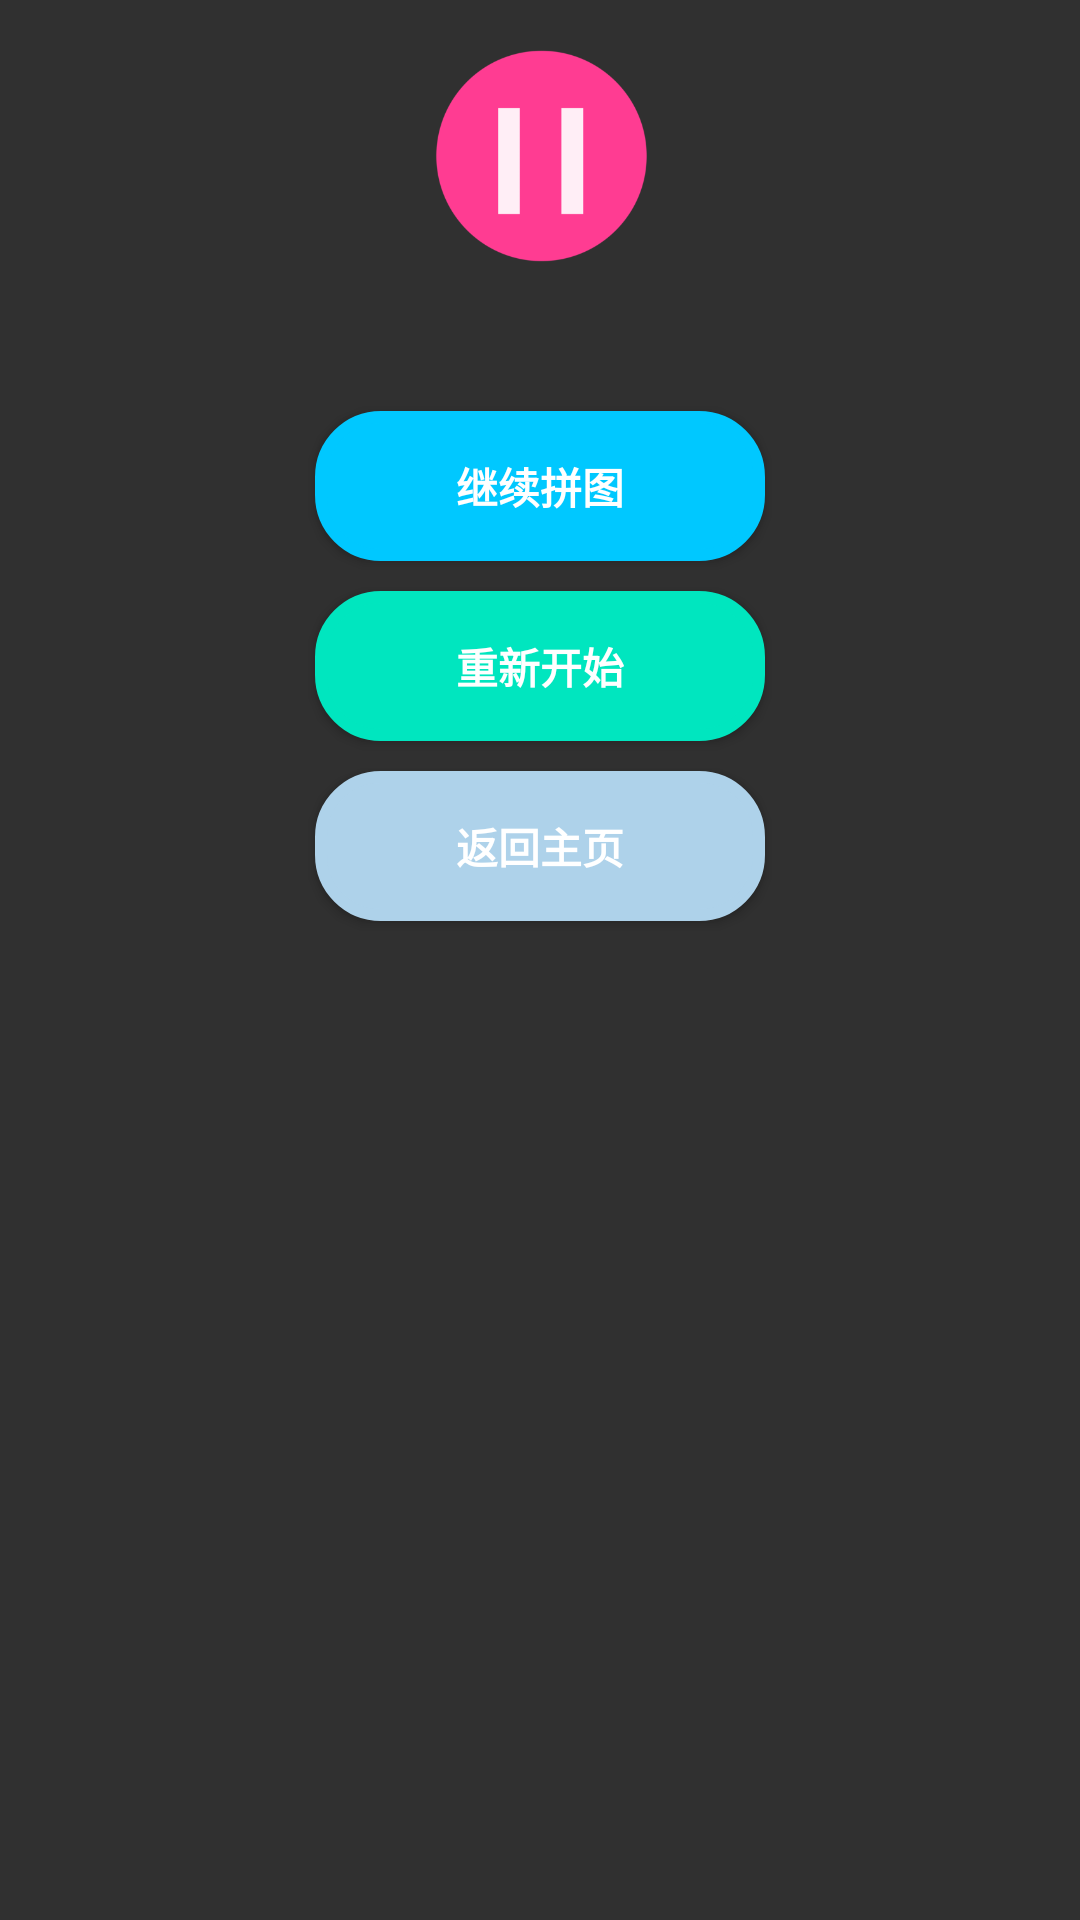

Icon bounding boxes for this 1080px×1920px phone screenshot, format (x1, y1, x2, y2):
pause: (436, 50, 647, 262)
